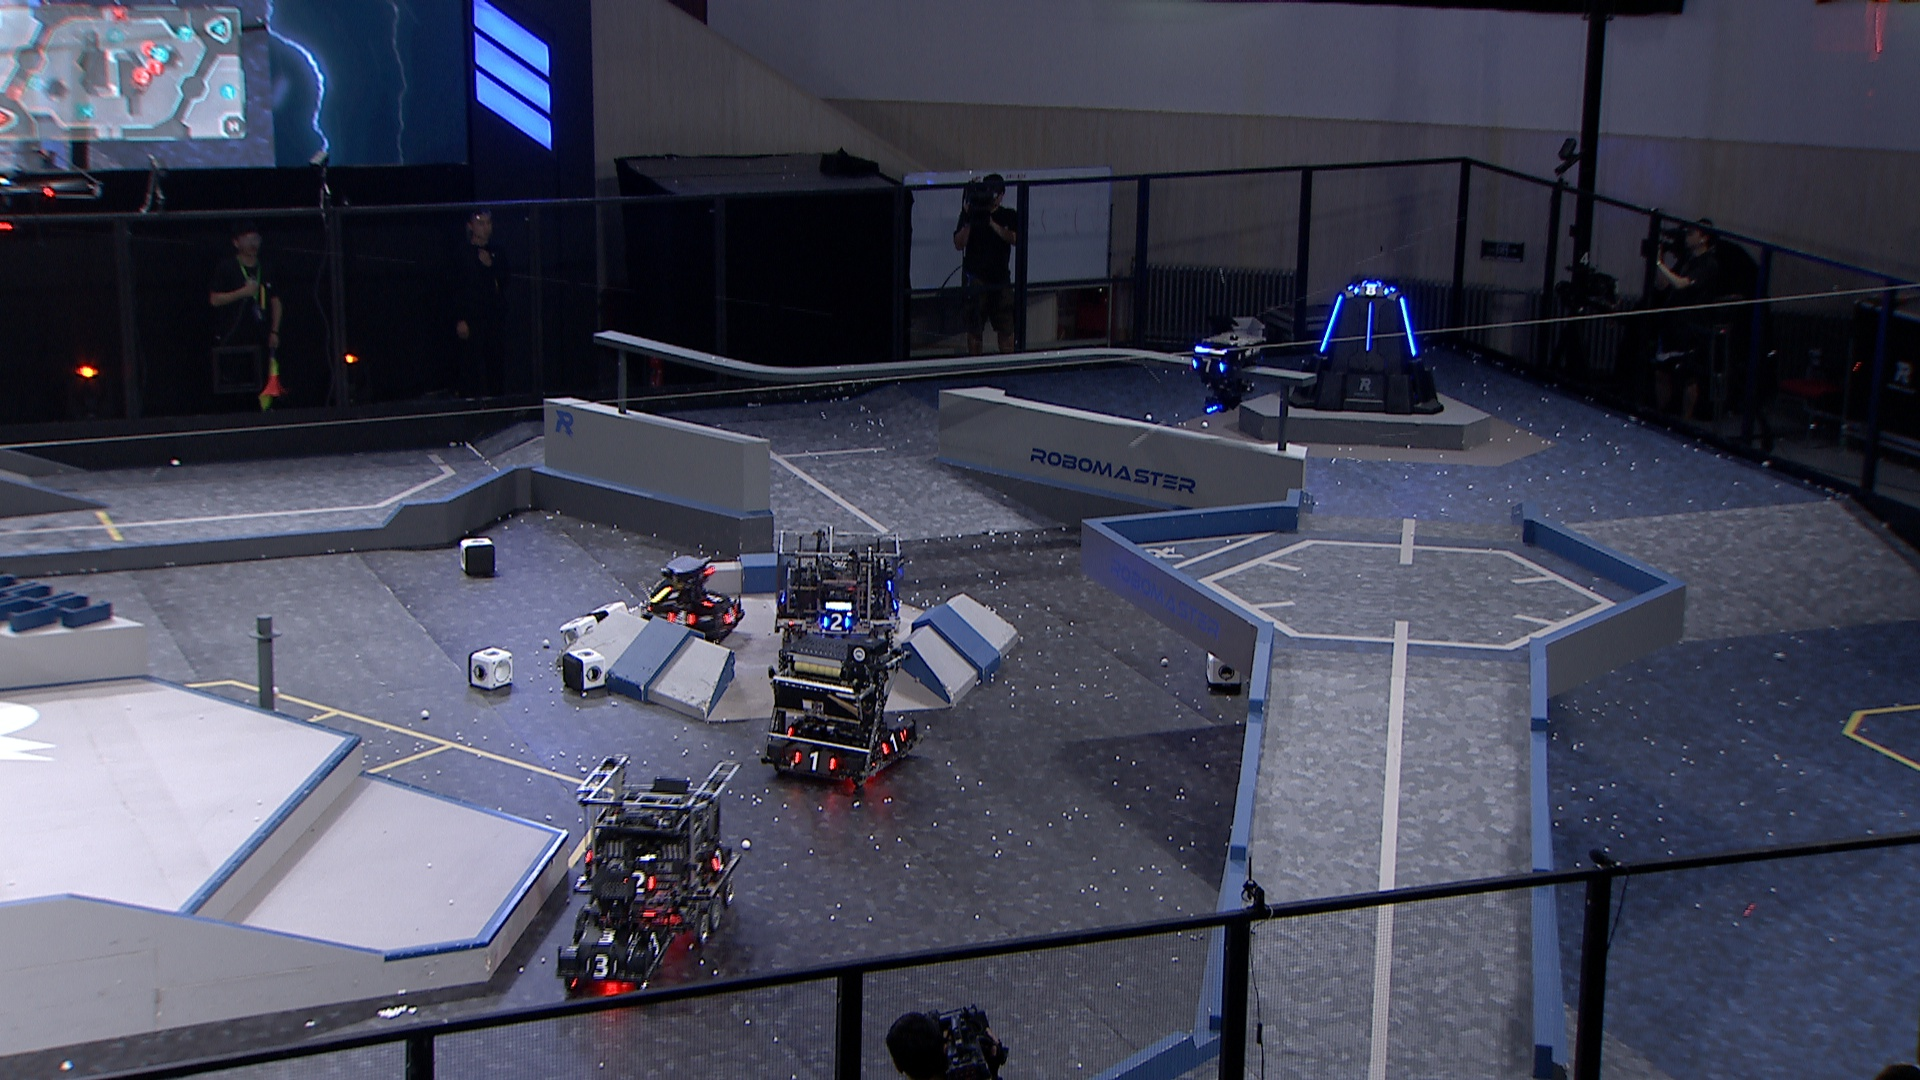armor: (1317, 294, 1344, 356), (790, 746, 840, 771), (1399, 295, 1419, 357), (1187, 353, 1229, 377), (582, 953, 618, 978), (880, 727, 907, 757), (583, 927, 628, 945), (628, 869, 657, 895), (1349, 282, 1393, 299), (665, 611, 698, 629), (822, 612, 851, 632), (645, 932, 665, 959), (1364, 301, 1373, 353), (711, 847, 727, 876), (700, 589, 724, 608), (721, 603, 741, 624)
base: (1282, 278, 1443, 415)
car: (571, 750, 737, 939), (757, 626, 918, 798), (769, 527, 905, 655), (553, 873, 674, 996), (636, 553, 749, 650)
watcher: (1185, 328, 1265, 417)
